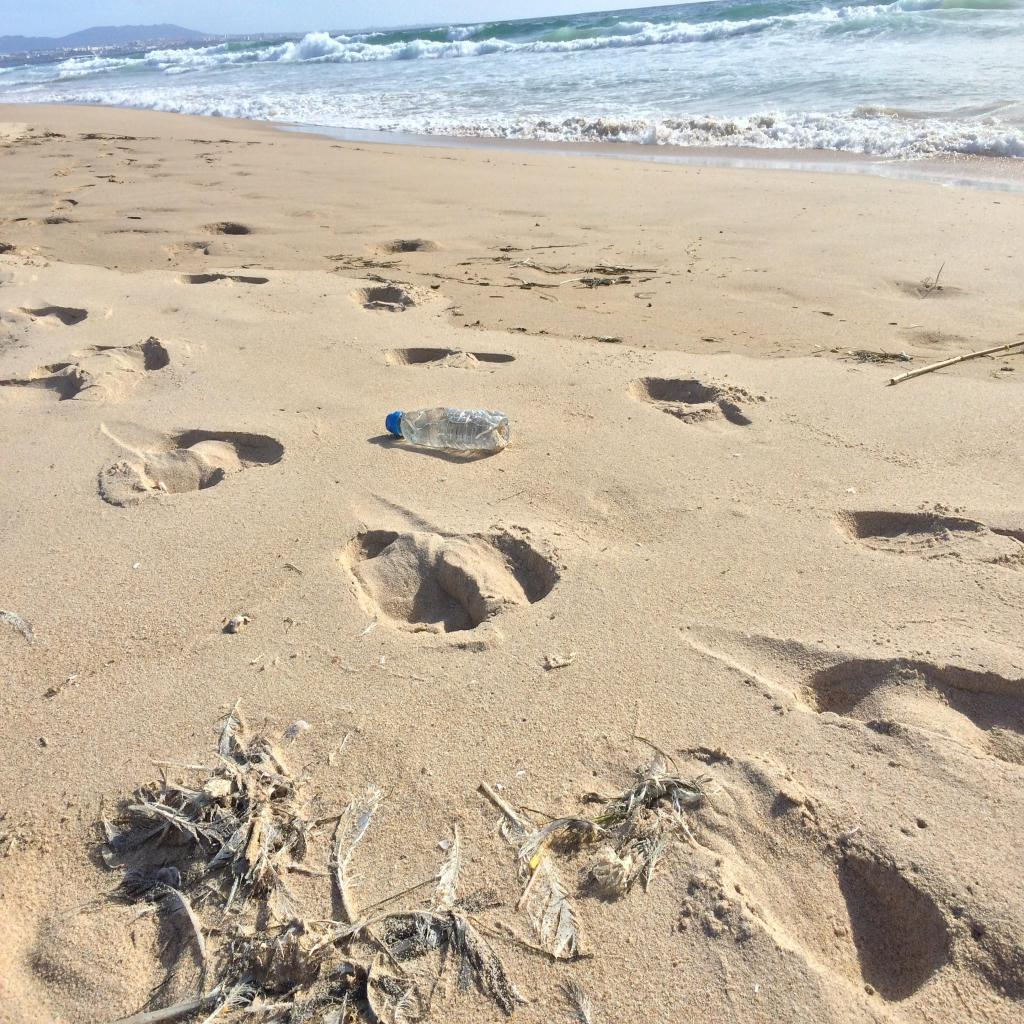Clear plastic bottle: (385, 406, 510, 450)
Plastic bottle cap: (386, 411, 400, 436)
Unlabeled litter: (529, 830, 555, 868)
